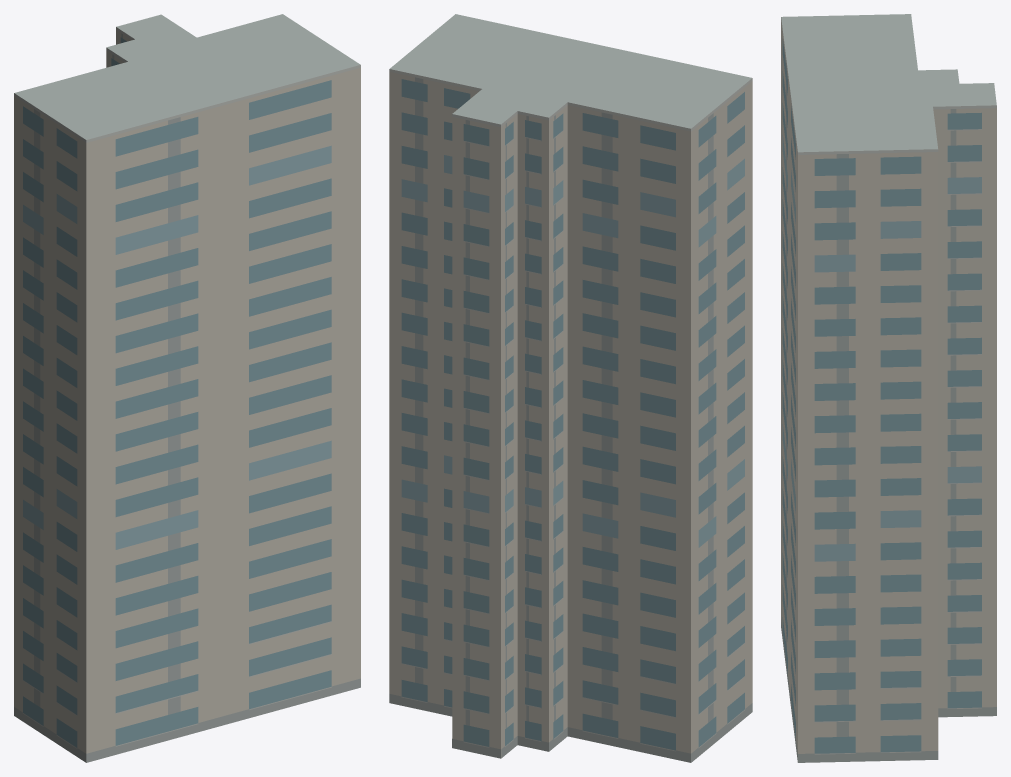
Rendered from residential-37fbd229-64f4-439b-ae90-7b3640055fbd.glb.
3 views of the same model, side by side, from view 1: azimuth 30°, elevation 25°; view 2: azimuth 150°, elevation 25°; view 3: azimuth 270°, elevation 25° (orthographic). The views are drawn at different scales.
Visible parts, largest first — view 1: residential-37fbd229-64f4-439b-ae90-7b3640055fbd.tmp; view 2: residential-37fbd229-64f4-439b-ae90-7b3640055fbd.tmp; view 3: residential-37fbd229-64f4-439b-ae90-7b3640055fbd.tmp.
Part boxes in pixels (<box>): residential-37fbd229-64f4-439b-ae90-7b3640055fbd.tmp: <box>14,14,360,762</box>; residential-37fbd229-64f4-439b-ae90-7b3640055fbd.tmp: <box>389,14,752,762</box>; residential-37fbd229-64f4-439b-ae90-7b3640055fbd.tmp: <box>781,14,996,762</box>.
Size of the model in its own units: 26.23 by 54 by 17.3.
